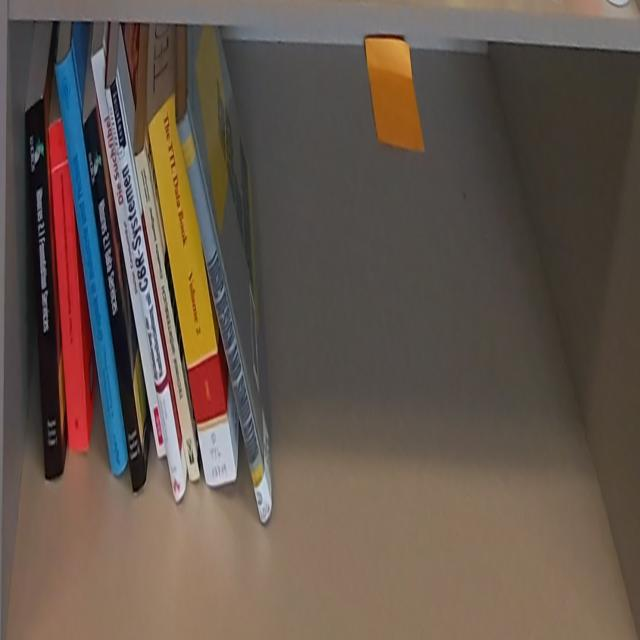Book Spine: (178, 104, 271, 526), (148, 90, 237, 489), (105, 73, 187, 505), (54, 47, 128, 479), (90, 48, 166, 463), (82, 109, 146, 492), (132, 148, 199, 485), (22, 98, 62, 480), (47, 123, 90, 452)
